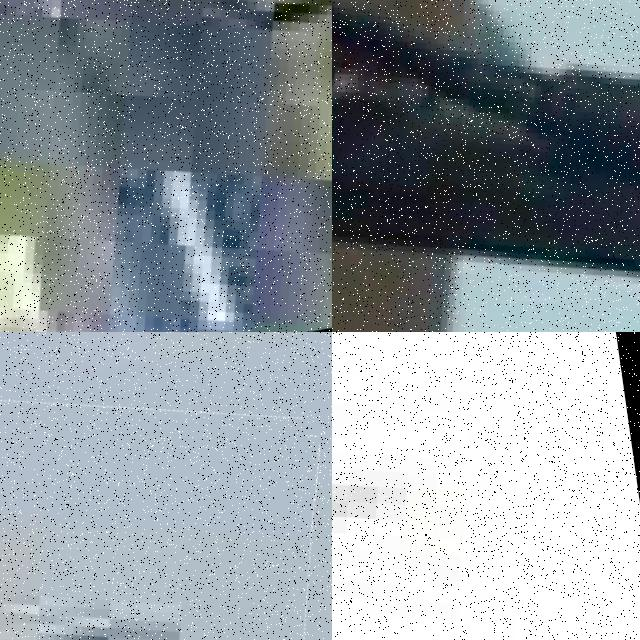drone: (0, 0, 332, 332), (332, 0, 640, 332), (0, 342, 332, 640), (332, 332, 640, 640)
